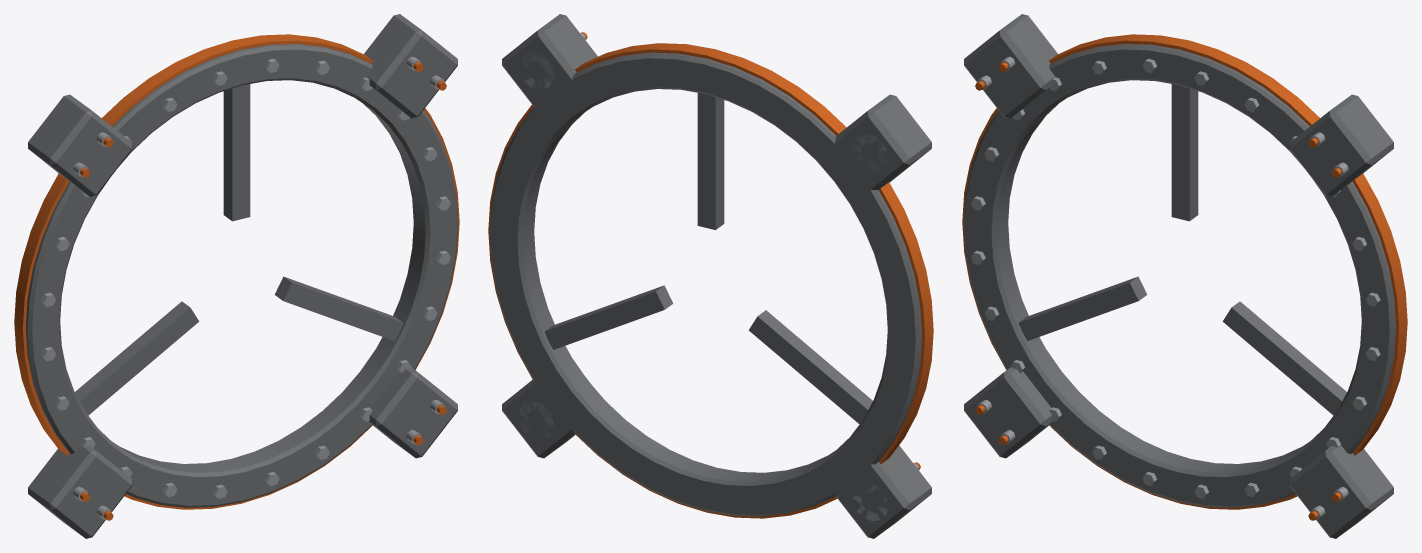
The model's file is u33_flange.obj.
The picture shows the model from 3 angles, left to right: view 1: azimuth 30°, elevation 25°; view 2: azimuth 150°, elevation 25°; view 3: azimuth 330°, elevation 25°; orthographic projection.
Parts seen in each view (by area): view 1: u33_flange; view 2: u33_flange; view 3: u33_flange.
Part boxes in pixels (x1,y1,x2,y2): u33_flange: (14, 14, 459, 538); u33_flange: (488, 14, 933, 538); u33_flange: (962, 14, 1407, 538).
Bounding box in the file's own units: 2.94 × 2.94 × 0.415.
